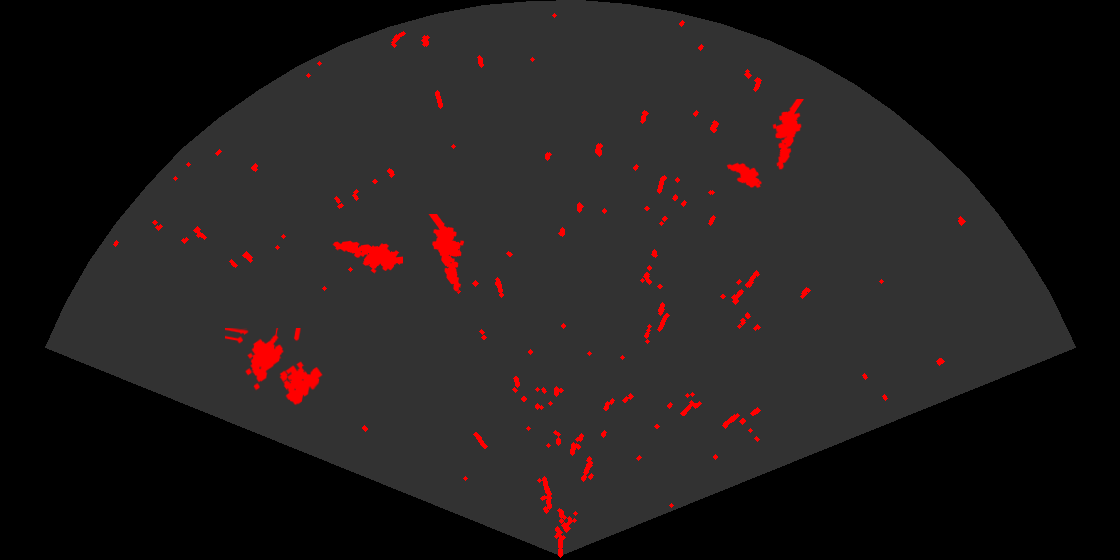AUV: (725, 161, 764, 190)
cage: (225, 328, 324, 407)
frogman: (427, 214, 466, 293), (331, 239, 403, 275), (771, 99, 805, 171)
